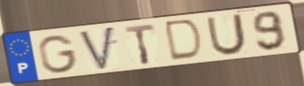9: (251, 10, 290, 52)
D: (165, 17, 206, 63)
G: (36, 34, 80, 75)
T: (123, 22, 158, 67)
U: (205, 12, 249, 57)
V: (77, 24, 117, 73)
